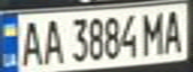3: (66, 15, 90, 63)
4: (118, 11, 142, 58)
8: (84, 14, 106, 61), (103, 12, 124, 60)
A: (15, 17, 45, 68), (160, 7, 190, 54), (39, 16, 66, 65)
M: (139, 8, 169, 56)
